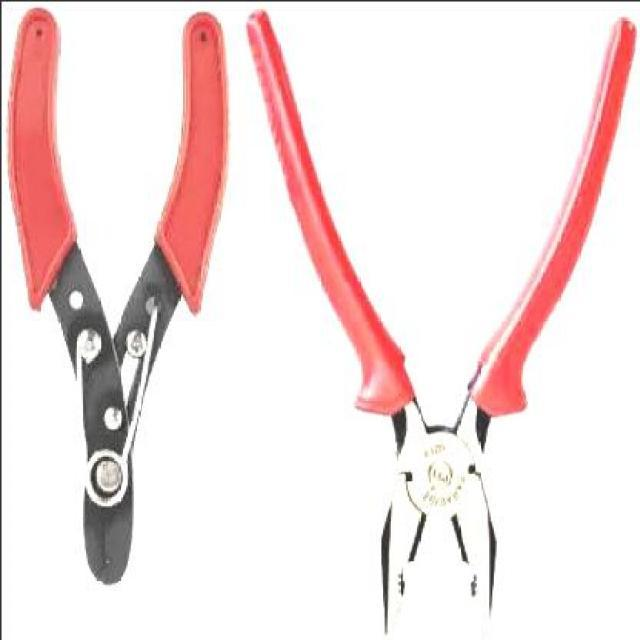pliers: (245, 0, 632, 631)
